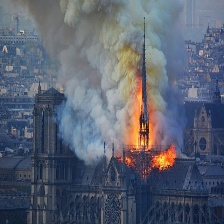fire: (118, 78, 177, 171)
smoke: (35, 1, 189, 143)
